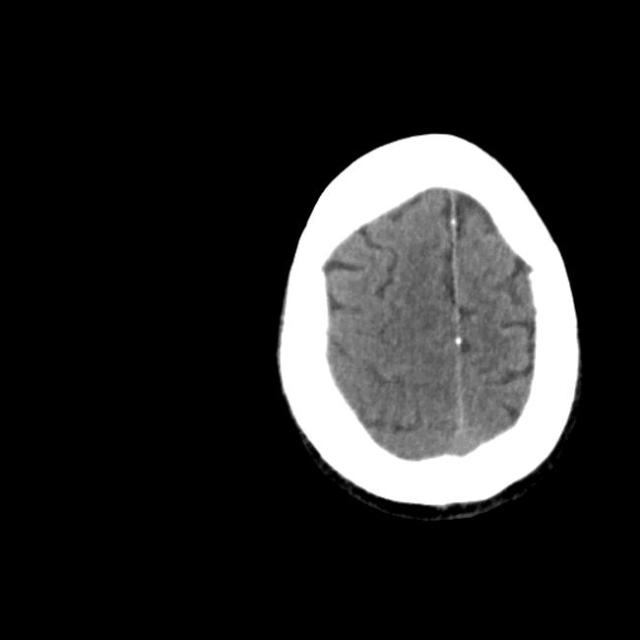lesion: (271, 126, 588, 524)
